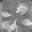people: (16, 3, 28, 15), (21, 18, 32, 26), (1, 21, 10, 29), (2, 11, 12, 18), (10, 20, 17, 30)
